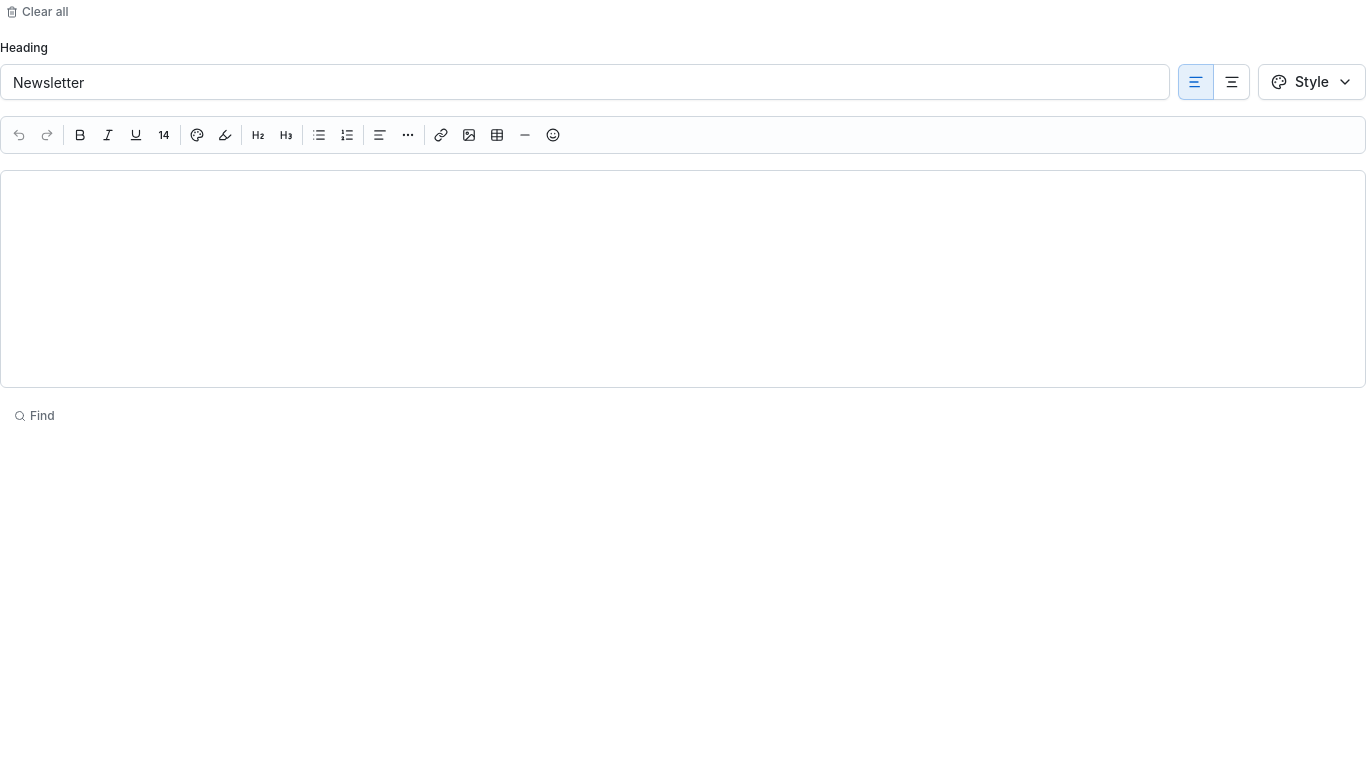
Test: NewsletterEditor - toolbar interactions › clicking link button opens link popover
The image size is (1366, 768).
Click the button named "Add link" at (441, 135), box [427,121,455,149]
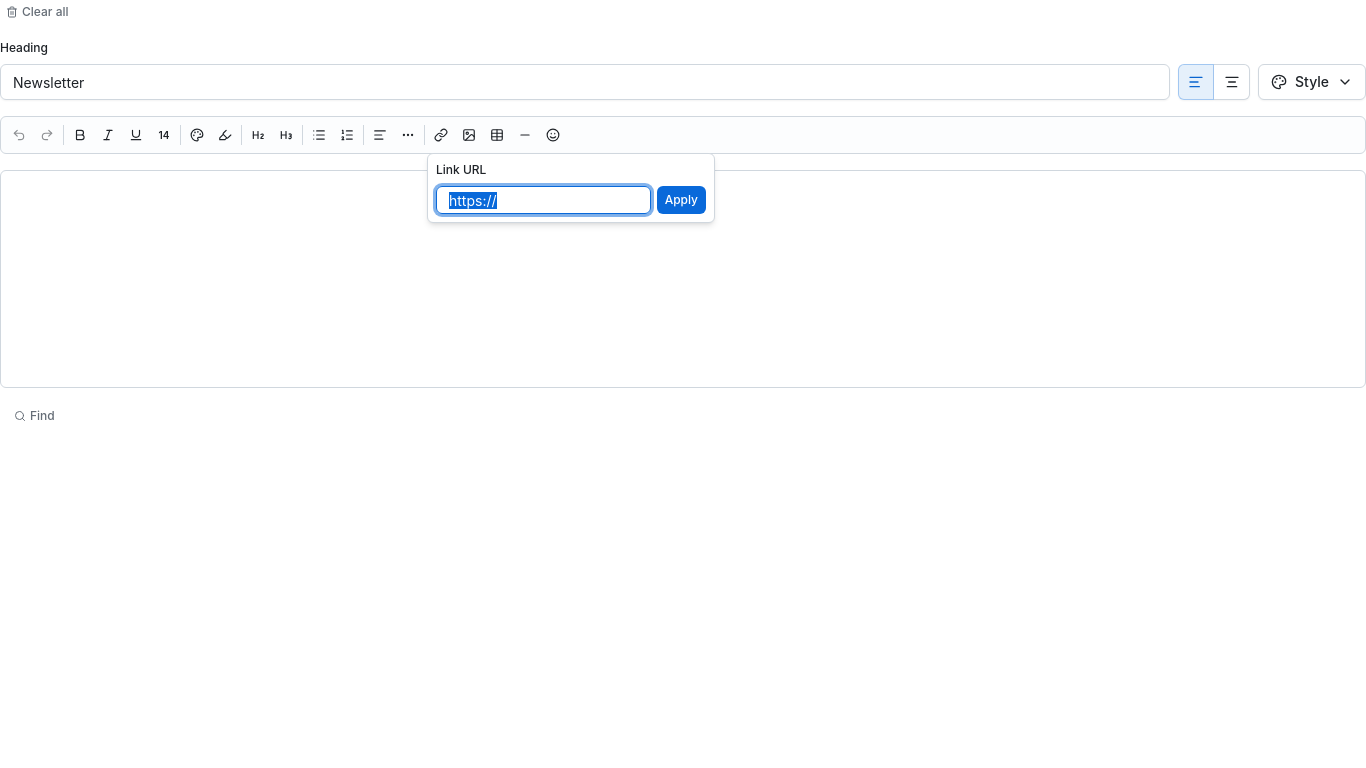
Check: the field with test id "link-url-input" is shown, box [436,186,651,214]
Check: the button with test id "link-submit-btn" is shown, box [657,186,706,214]
